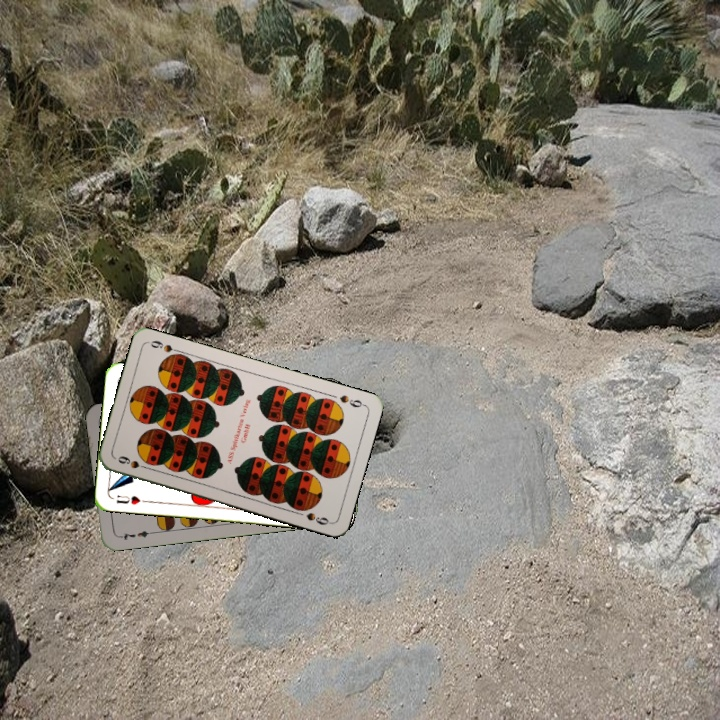E7: (114, 527, 155, 542)
HU: (112, 491, 150, 507)
S9: (113, 452, 152, 472), (335, 391, 367, 410)
